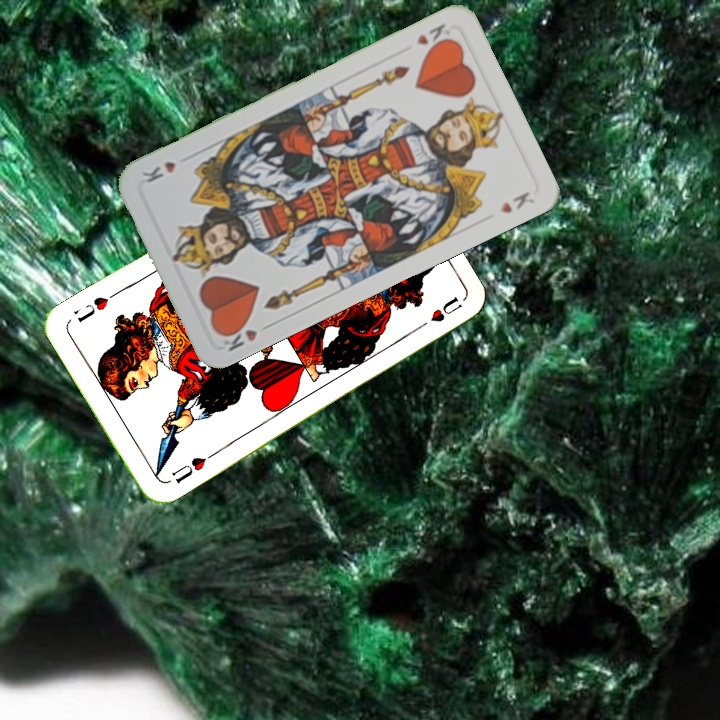HK: (215, 317, 275, 354), (412, 19, 455, 54)
HU: (167, 449, 216, 486)
